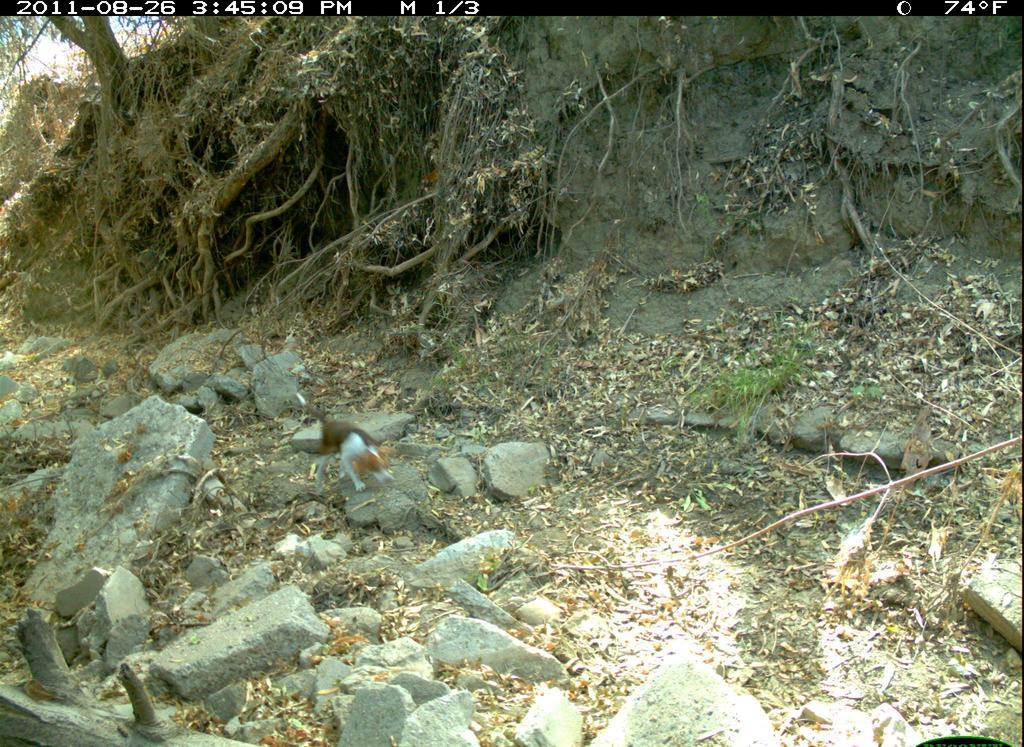dog: (289, 386, 415, 509)
